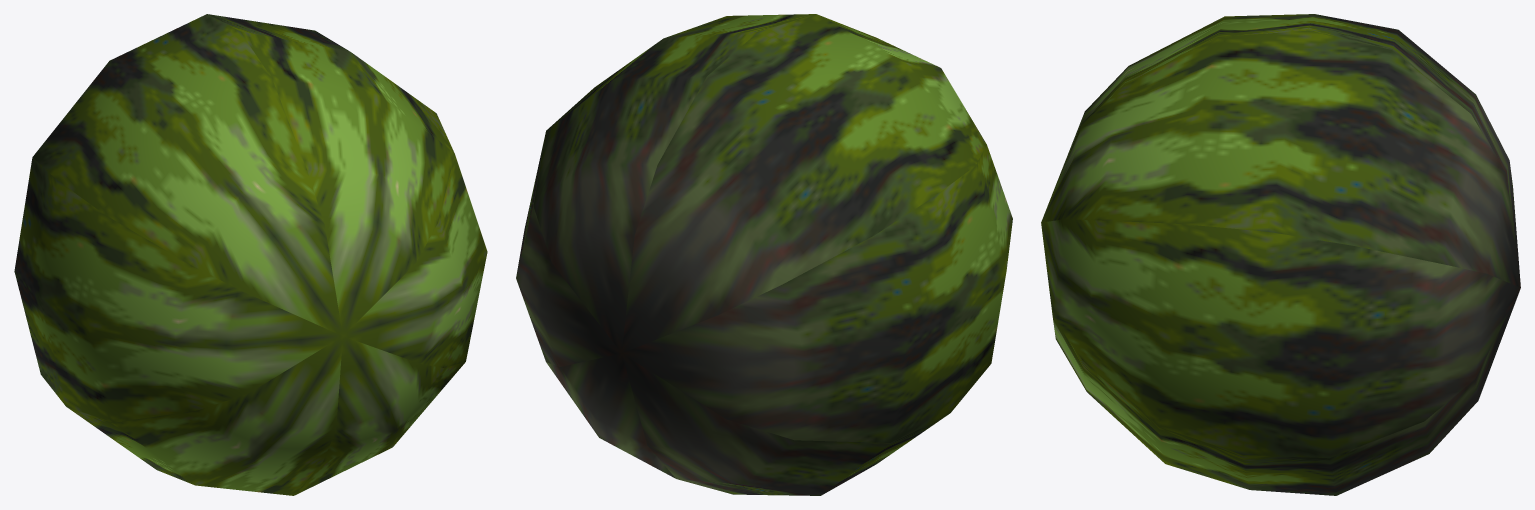
Rendered from xsz_xigua_1.FBX.
The picture shows the model from 3 angles, left to right: view 1: azimuth 30°, elevation 25°; view 2: azimuth 150°, elevation 25°; view 3: azimuth 270°, elevation 25°; orthographic projection. The views are drawn at different scales.
Parts seen in each view (by area): view 1: xsz_xigua_1; view 2: xsz_xigua_1; view 3: xsz_xigua_1.
Boxes of the visible parts, x1,y1,x2,y2 form: xsz_xigua_1: (14,14,487,495); xsz_xigua_1: (516,14,1012,495); xsz_xigua_1: (1041,14,1520,495).
Size of the model in its own units: 1.03 by 1.06 by 1.04.
